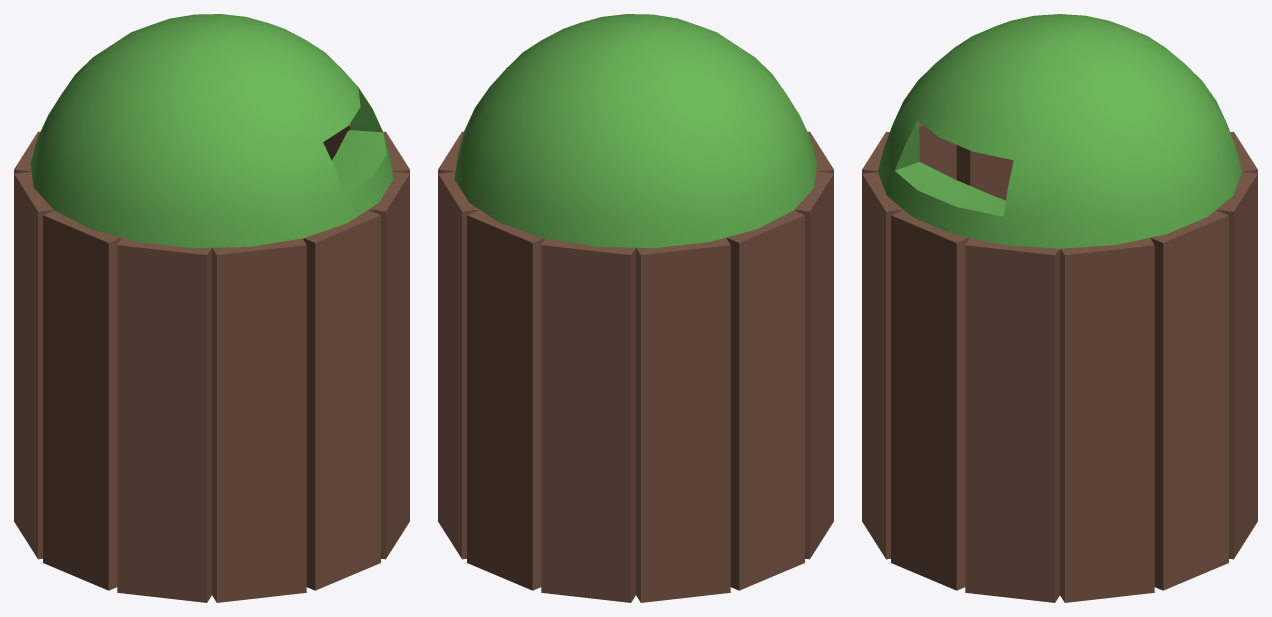
File: 垃圾桶.fbx
The picture shows the model from 3 angles, left to right: view 1: azimuth 30°, elevation 25°; view 2: azimuth 150°, elevation 25°; view 3: azimuth 270°, elevation 25°; orthographic projection.
Visible parts, largest first — view 1: pSphere2; view 2: pSphere2; view 3: pSphere2.
Boxes of the visible parts, <box> form: pSphere2: <box>14,14,409,602</box>; pSphere2: <box>438,14,833,602</box>; pSphere2: <box>862,14,1257,602</box>.
Size of the model in its own units: 1.98 by 2.7 by 1.98.
